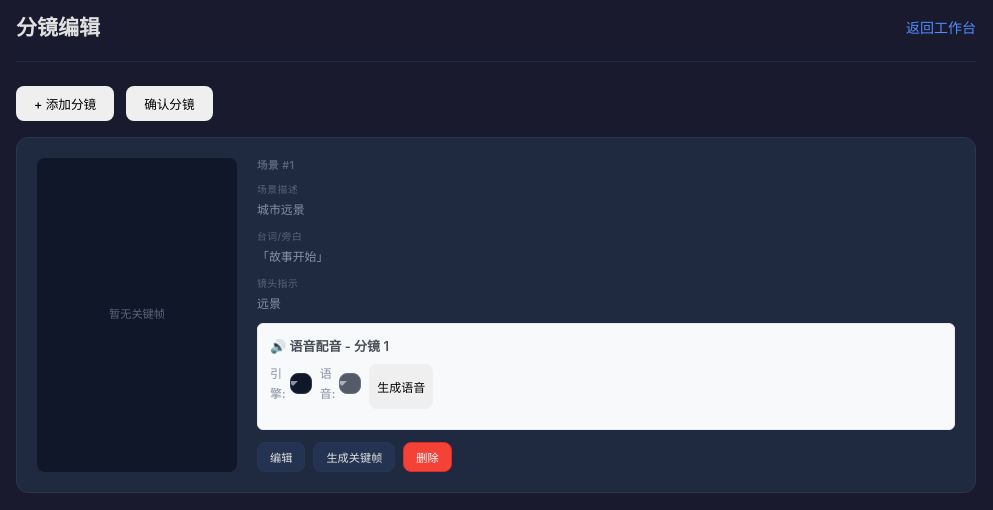
Test case: StoryboardPage - 关键帧功能 › 生成失败时显示错误信息和重试按钮（Req 4.5）
The image size is (993, 510).
Click the button with aria-label "生成关键帧 1". click: (354, 457)
box: [313,442,395,472]
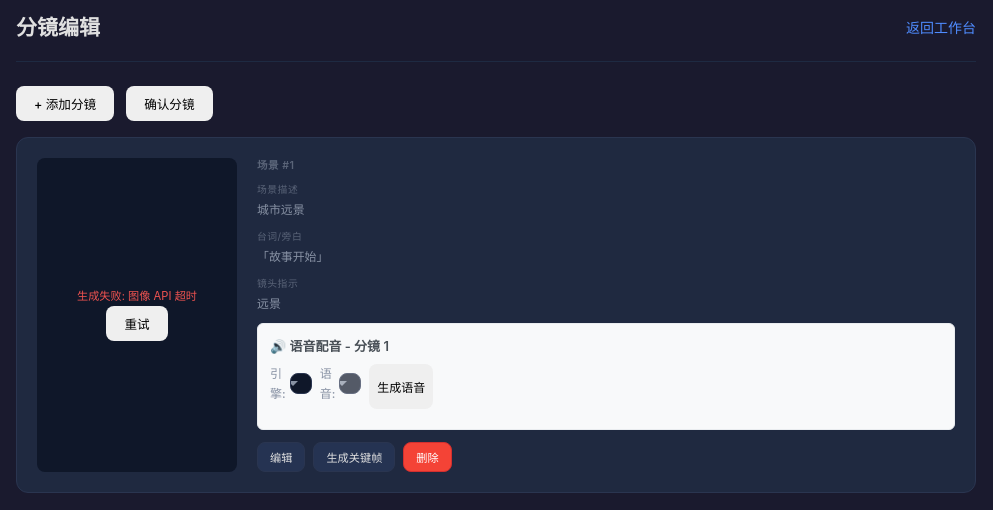
Result: the message with test id "keyframe-error-scene-1" shows "图像 API 超时" at [128,289,197,303]
Result: the button with aria-label "重试生成关键帧 1" is shown at [106,306,168,341]
